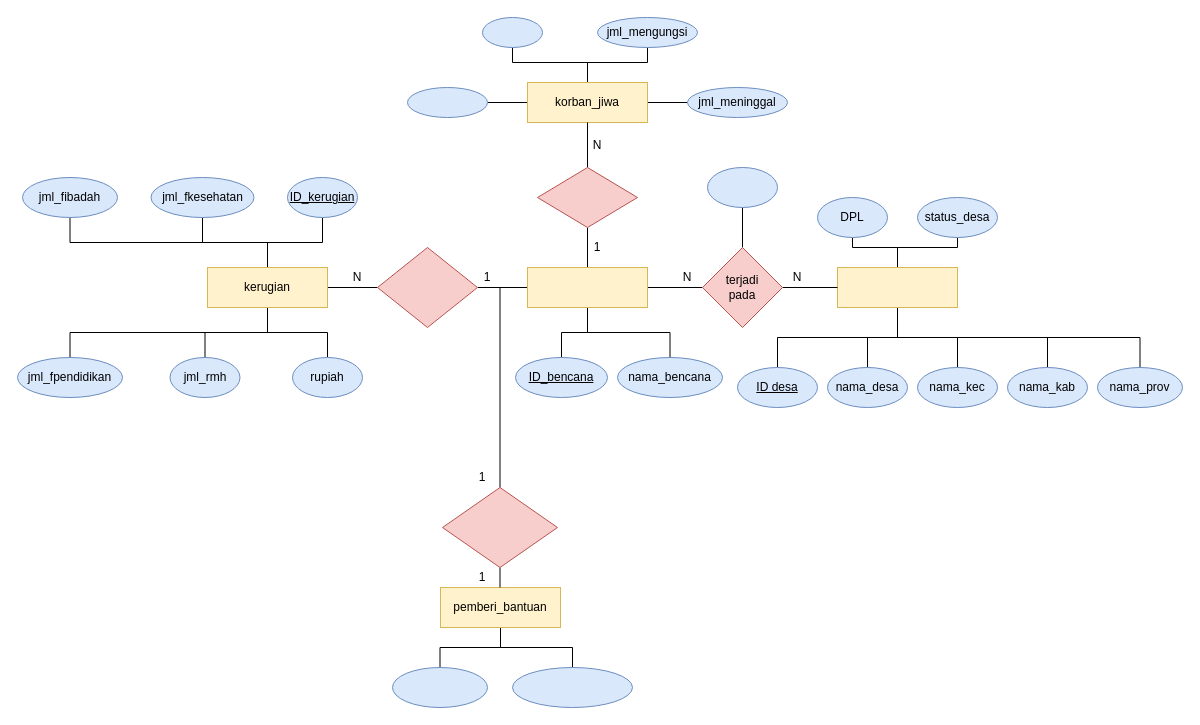
The diagram is 1200 pixels wide and 725 high, and some of its shapes have lost their labels. Each missing label, with the centre of its shape:
"bencana" goes at (x=587, y=287).
"ID _pembantu" goes at (x=440, y=687).
"ID_korban" goes at (x=447, y=102).
"jml_luka" goes at (x=512, y=32).
"lokasi" goes at (x=897, y=287).
"memakan" goes at (x=587, y=197).
"menangani" goes at (x=500, y=527).
"menyebabkan" goes at (x=427, y=287).
"nama_pembantu" goes at (x=572, y=687).
"waktu" goes at (x=742, y=187).
